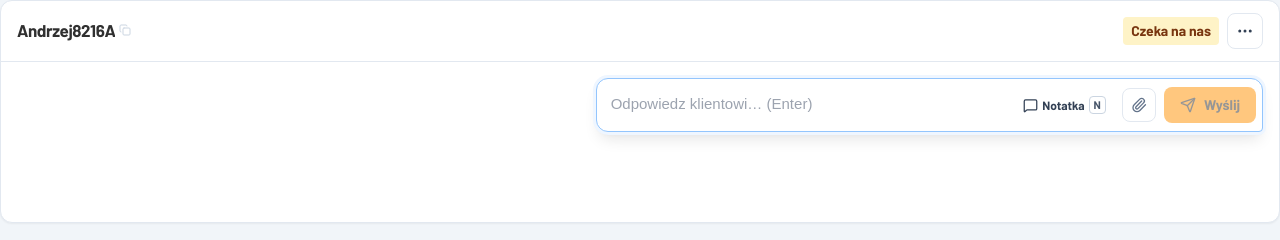
Test case: Nagłówek rozmowy › mówi, że rozmowę przypisze PIERWSZA ODPOWIEDŹ
Step 1. Click the button named "Więcej czynności rozmowy" → (1245, 31), box [1227,13,1263,49]
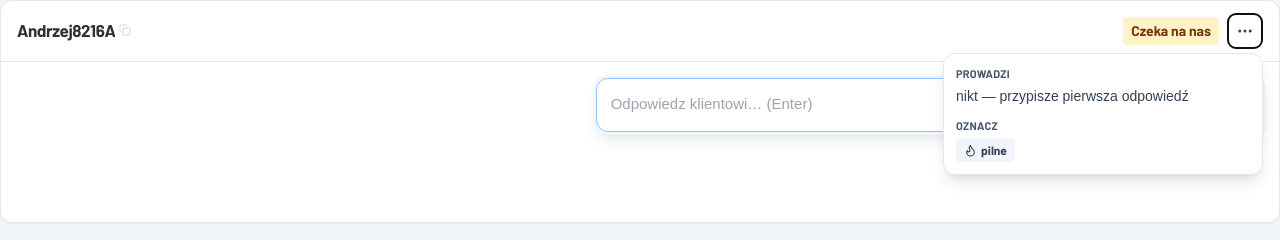
Check: the text "nikt — przypisze pierwsza odpowiedź" is shown, box [956,86,1189,106]
